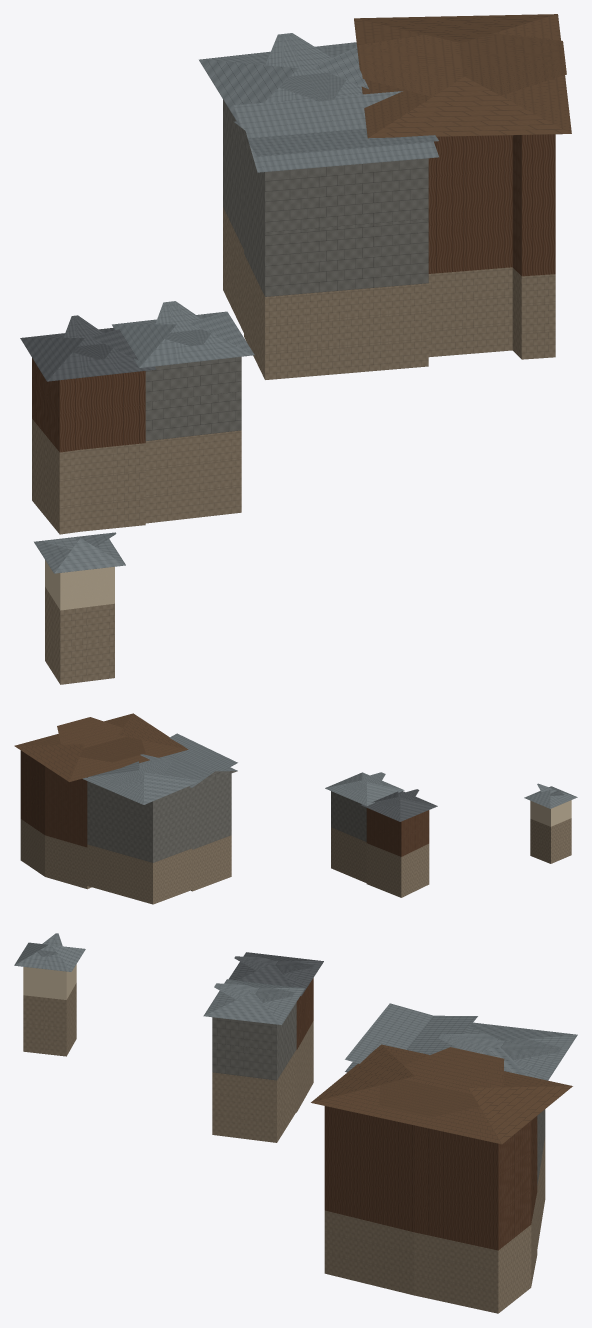
The model's file is bld_c12_29_390.gltf.
3 views of the same model, one above another, from view 1: azimuth 30°, elevation 25°; view 2: azimuth 150°, elevation 25°; view 3: azimuth 270°, elevation 25° (orthographic). The views are drawn at different scales.
Parts seen in each view (by area): view 1: bld_c12_29_390; view 2: bld_c12_29_390; view 3: bld_c12_29_390.
Part boxes in pixels (x1,y1,x2,y2): bld_c12_29_390: [20, 14, 571, 684]; bld_c12_29_390: [14, 713, 577, 904]; bld_c12_29_390: [14, 933, 577, 1313].
Bounding box in the file's own units: 52.34 × 16.2 × 41.27.
Materials: 8 (8 with a texture image).
